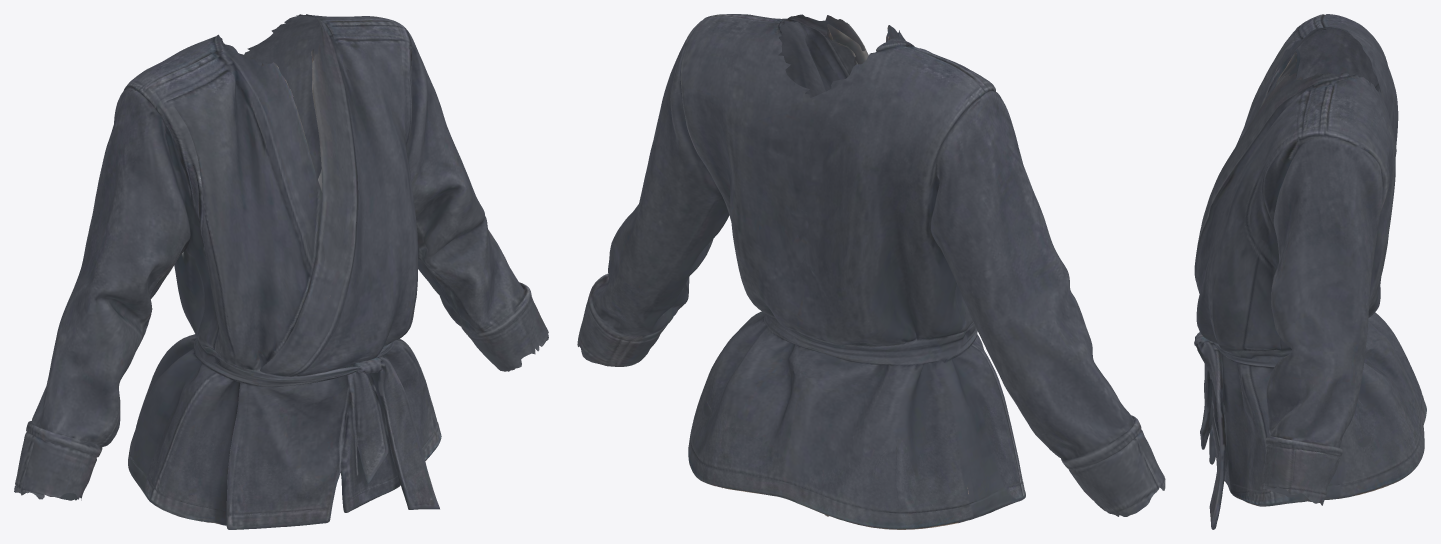
File: eq_jinzhuang_raw_aligned.glb
3 views of the same model, side by side, from view 1: azimuth 30°, elevation 25°; view 2: azimuth 150°, elevation 25°; view 3: azimuth 270°, elevation 25° (orthographic). The views are drawn at different scales.
Visible parts, largest first — view 1: ExtractedGarment; view 2: ExtractedGarment; view 3: ExtractedGarment.
Boxes of the visible parts, x1=… form: ExtractedGarment: x1=14, y1=14, x2=548, y2=529; ExtractedGarment: x1=577, y1=14, x2=1165, y2=529; ExtractedGarment: x1=1194, y1=14, x2=1426, y2=529.
Size of the model in its own units: 0.4237 by 0.3529 by 0.1723.
Materials: 1 (1 with a texture image).
